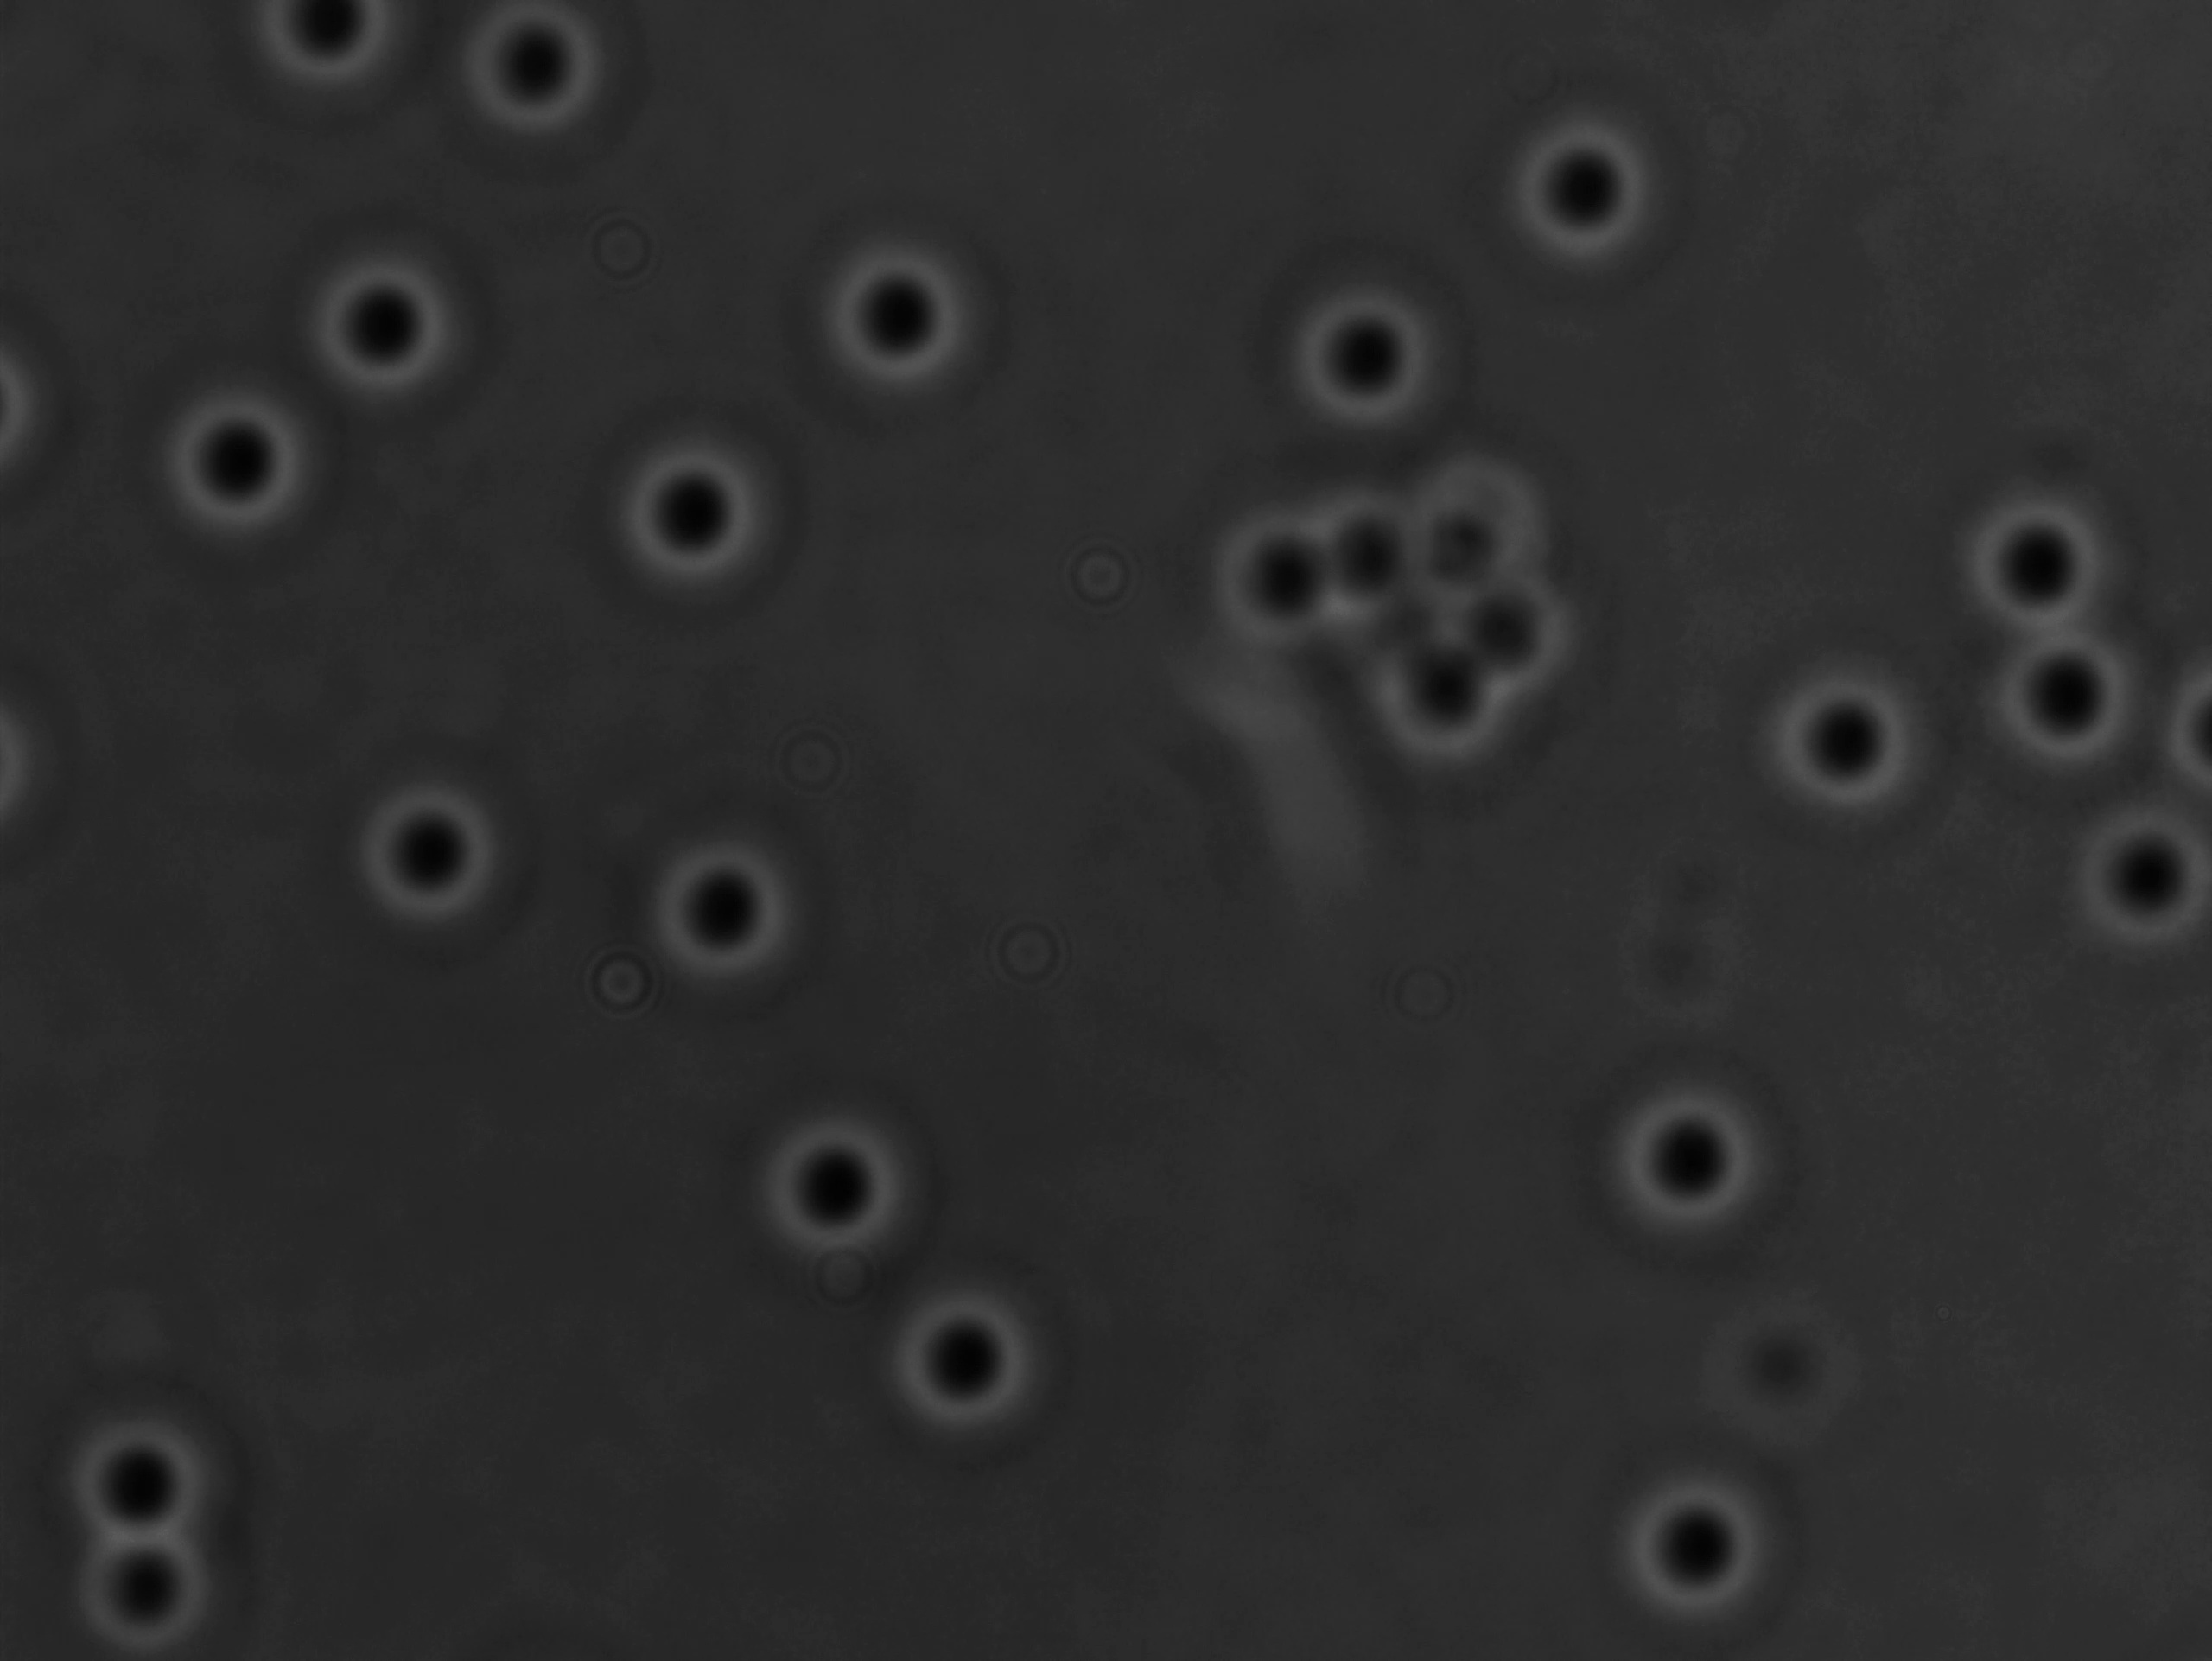depth:-80: (1744, 640, 1938, 830), (1589, 1070, 1783, 1256), (1947, 471, 2140, 654), (305, 236, 495, 420), (867, 1263, 1061, 1443), (56, 1394, 249, 1574), (1980, 609, 2170, 785), (340, 769, 523, 951), (642, 818, 822, 1000), (611, 419, 787, 598), (138, 377, 317, 553), (1272, 276, 1451, 450), (748, 1108, 919, 1286), (1493, 103, 1664, 277), (1612, 1462, 1792, 1628), (816, 234, 993, 393), (47, 1525, 244, 1661), (2071, 771, 2212, 953)
